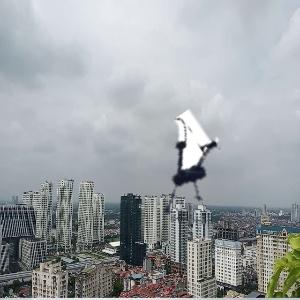drone: (132, 125, 237, 230)
